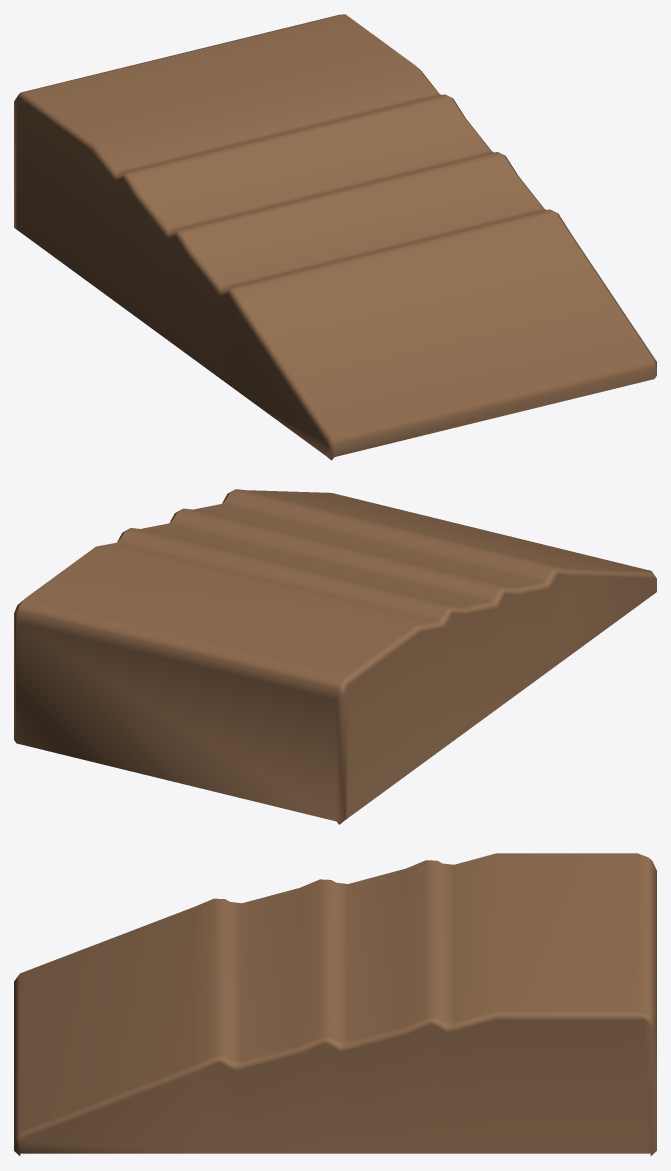
File: doorstop.glb
3 views of the same model, one above another, from view 1: azimuth 30°, elevation 25°; view 2: azimuth 150°, elevation 25°; view 3: azimuth 270°, elevation 25° (orthographic).
Parts seen in each view (by area): view 1: stairwell_doorstop; view 2: stairwell_doorstop; view 3: stairwell_doorstop.
Part boxes in pixels (box(x1,y1,x2,y2)): stairwell_doorstop: box(14, 14, 656, 460); stairwell_doorstop: box(14, 489, 656, 824); stairwell_doorstop: box(14, 853, 656, 1155).
Bounding box in the file's own units: 0.12 × 0.05 × 0.2.
